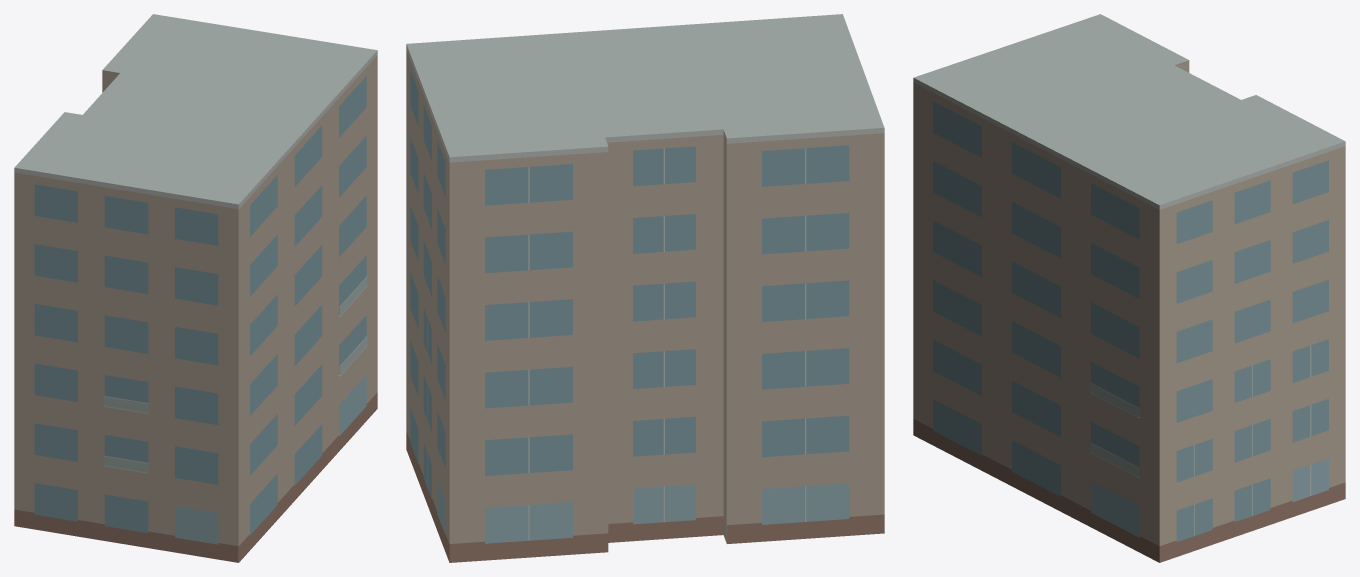
Rendered from survey-upis-32624335.glb.
The picture shows the model from 3 angles, left to right: view 1: azimuth 30°, elevation 25°; view 2: azimuth 150°, elevation 25°; view 3: azimuth 270°, elevation 25°; orthographic projection. The views are drawn at different scales.
Parts seen in each view (by area): view 1: survey-upis-32624335.tmp; view 2: survey-upis-32624335.tmp; view 3: survey-upis-32624335.tmp.
Part boxes in pixels (left/top/right/bottom): survey-upis-32624335.tmp: left=14, top=14, right=377, bottom=562; survey-upis-32624335.tmp: left=406, top=14, right=884, bottom=562; survey-upis-32624335.tmp: left=913, top=14, right=1345, bottom=562.
Size of the model in its own units: 21.23 by 18.5 by 20.27.
